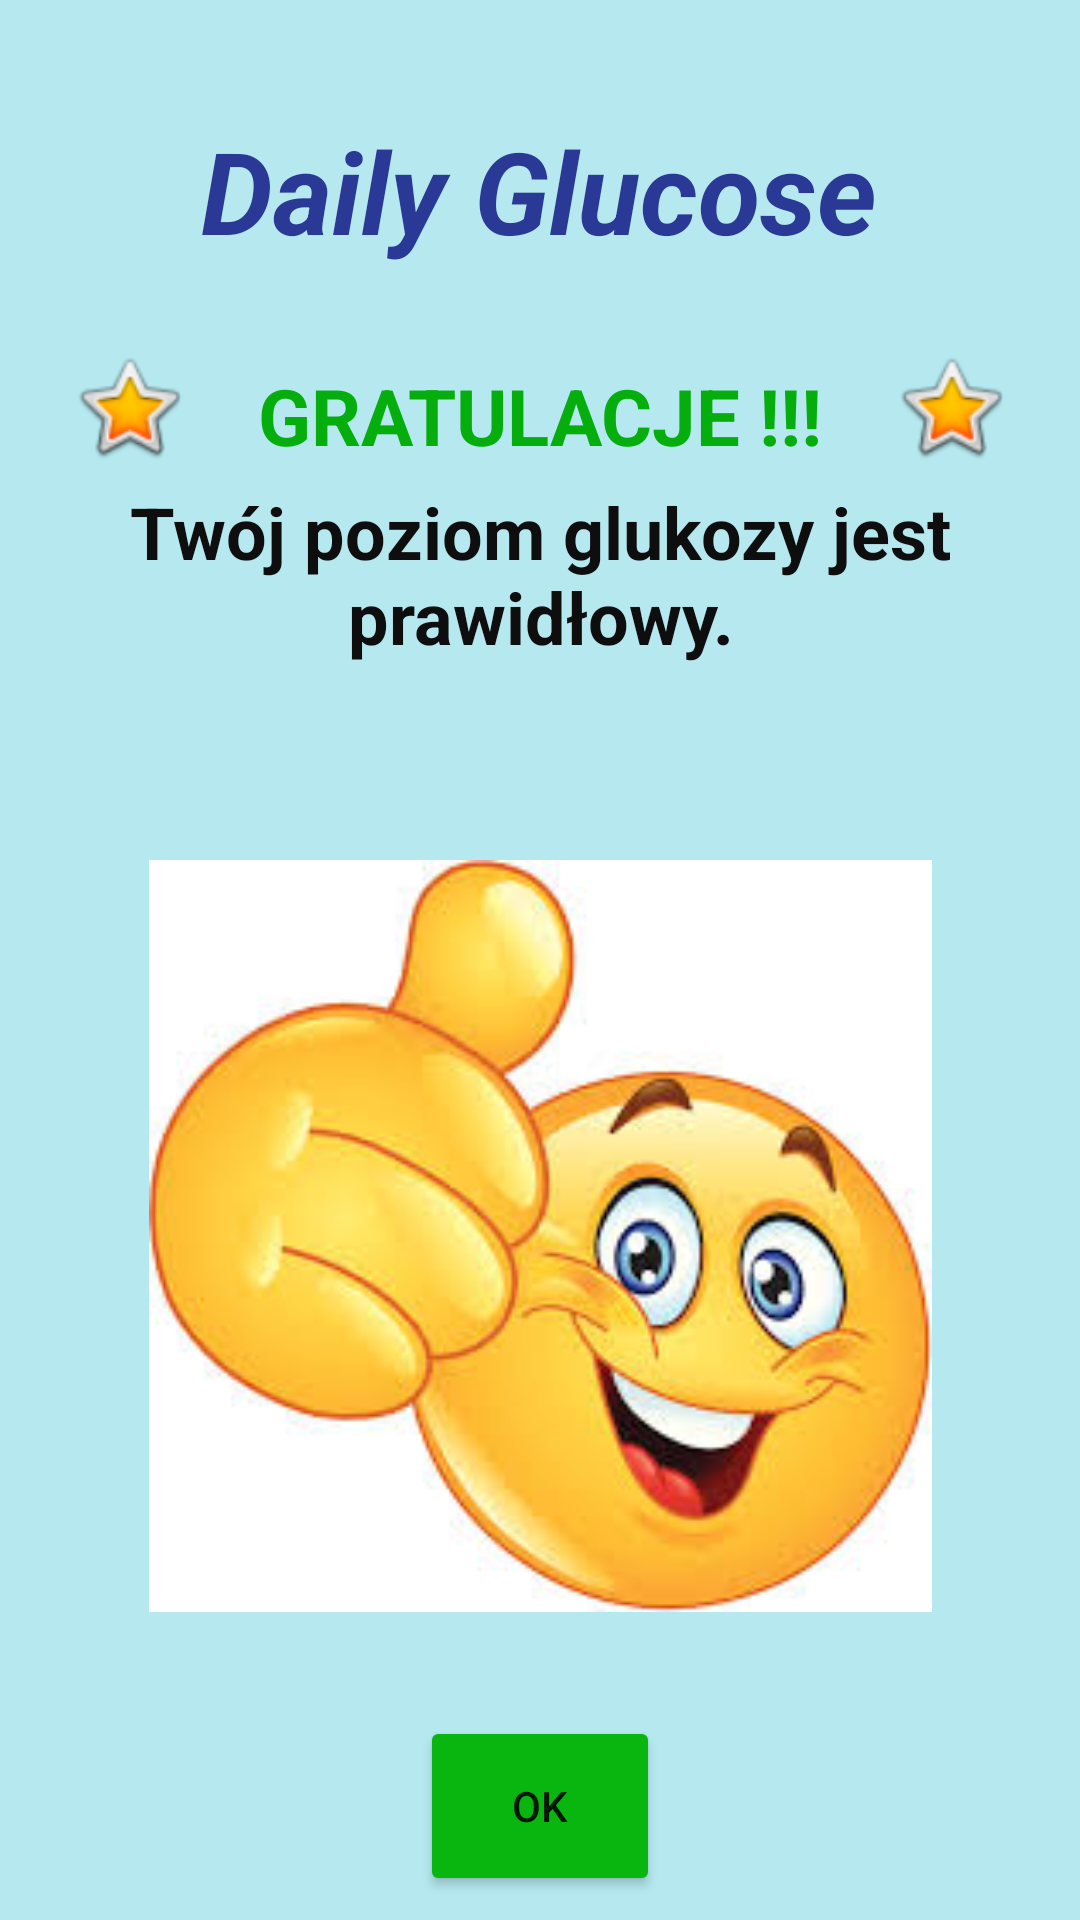

Named icons in this screenshot (1080px×1920px) and their centers, [x,y]:
star on: [130,408], [952,408]
